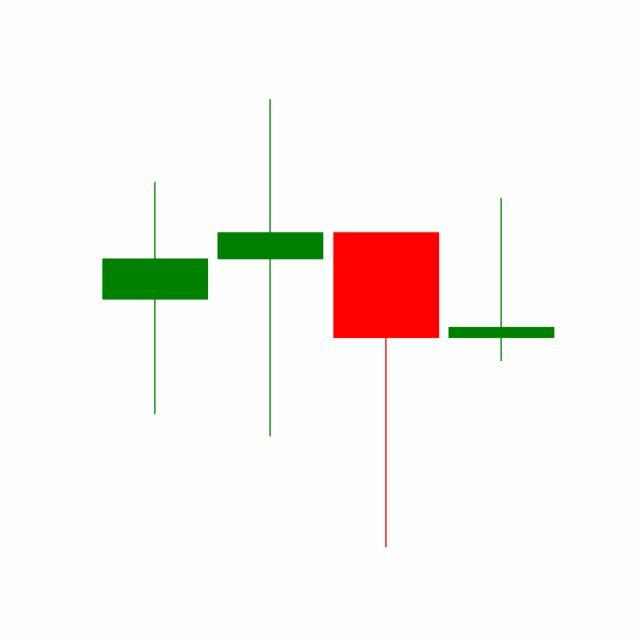Gravestone Doji: (444, 195, 560, 364)
